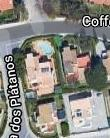pool: (38, 42, 55, 57)
